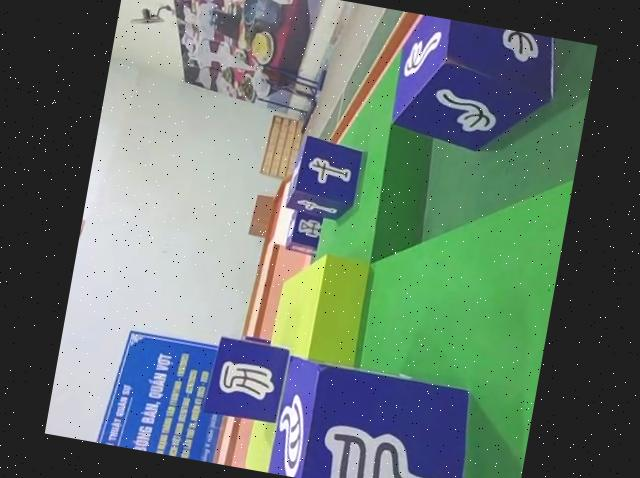R2 Fake Blue: (266, 355, 485, 478), (204, 333, 295, 427)
R2 Real Blue: (386, 12, 566, 162), (282, 134, 365, 224), (283, 206, 324, 254)
